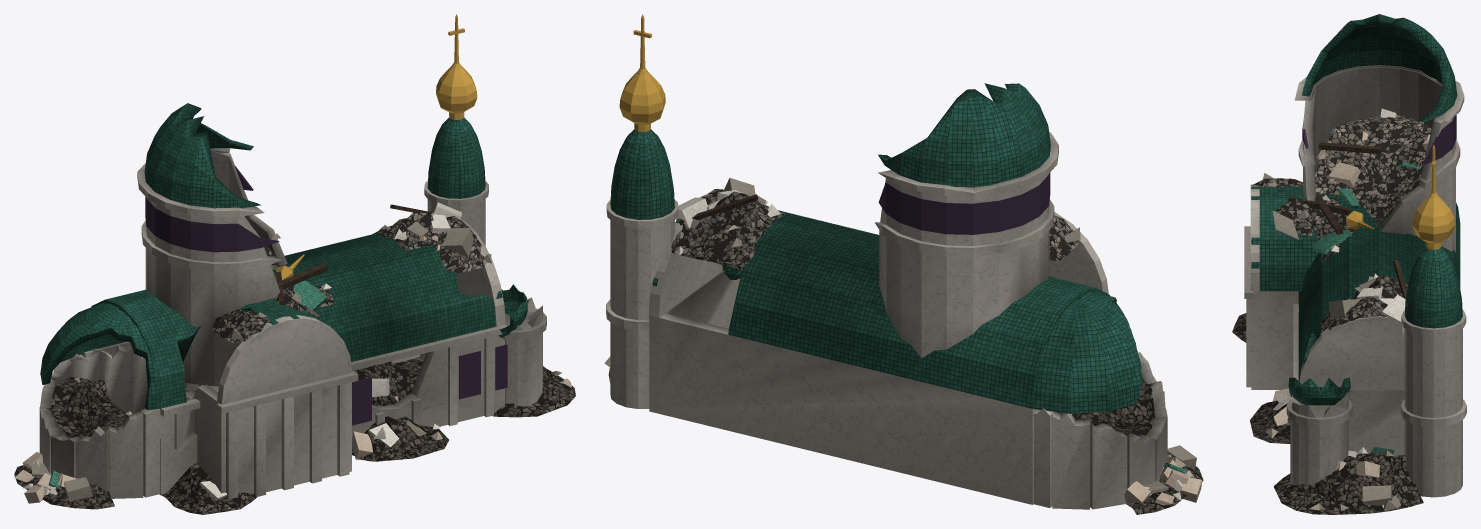
Rendered from CreBuild02a.glb.
3 views of the same model, side by side, from view 1: azimuth 30°, elevation 25°; view 2: azimuth 150°, elevation 25°; view 3: azimuth 270°, elevation 25° (orthographic). The views are drawn at different scales.
Visible parts, largest first — view 1: marble; view 2: marble; view 3: marble.
Part boxes in pixels (left/top/right/bottom): marble: left=14, top=14, right=575, bottom=514; marble: left=604, top=14, right=1203, bottom=514; marble: left=1232, top=14, right=1466, bottom=514.
Bounding box in the file's own units: 21.65 × 13.88 × 8.43.
Materials: 6 (4 with a texture image).
